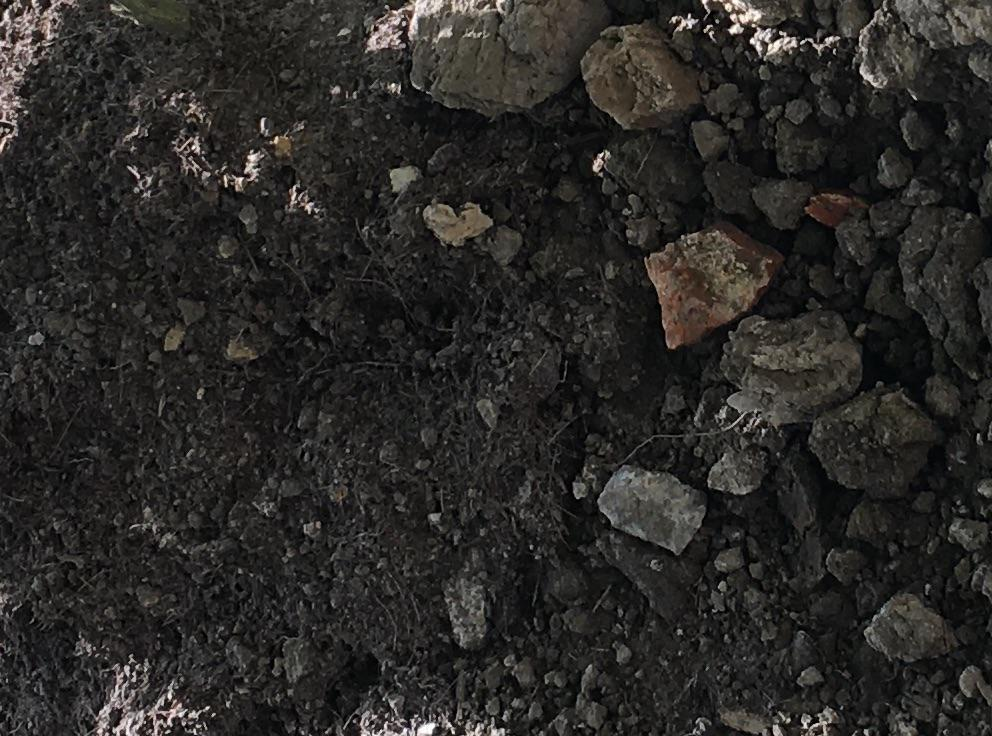block: (412, 1, 608, 114), (633, 226, 784, 352), (715, 310, 863, 434), (808, 379, 940, 504), (582, 26, 705, 129), (603, 462, 705, 562)
